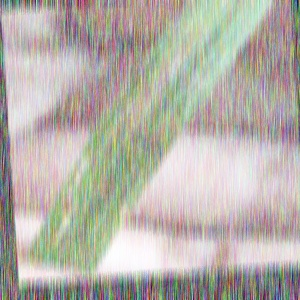Brown_Spot: (140, 26, 205, 96), (153, 95, 194, 144)
